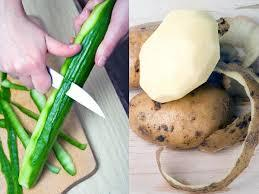Organic: (4, 4, 259, 194)
